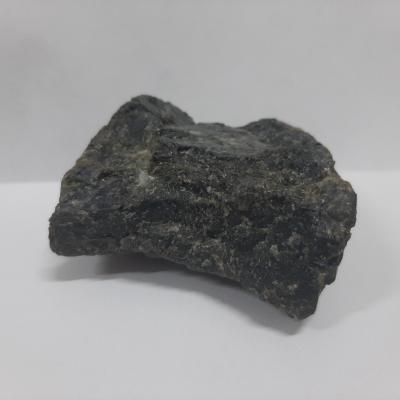mineralogy: (47, 95, 358, 322)
